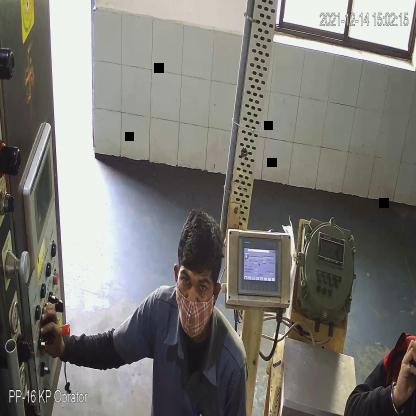no_goggles: (177, 268, 212, 300)
